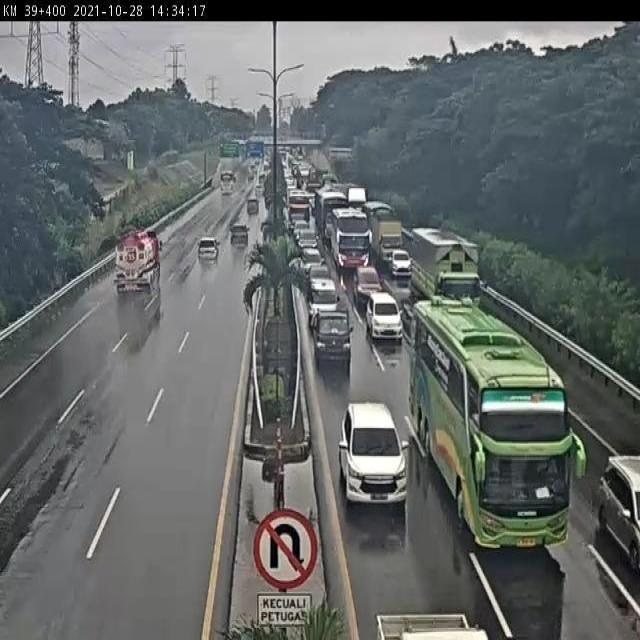ARABA: (336, 406, 409, 510), (587, 445, 640, 560), (111, 229, 168, 296), (312, 309, 355, 364), (364, 293, 404, 343), (302, 260, 335, 296), (191, 229, 221, 263), (228, 222, 251, 255), (341, 250, 367, 278), (388, 245, 408, 276), (297, 238, 318, 266), (296, 224, 318, 248), (242, 202, 261, 226), (302, 250, 323, 270), (292, 220, 309, 240)
OTOBUS: (412, 297, 589, 552), (330, 205, 370, 263), (314, 190, 347, 242), (285, 191, 313, 232), (215, 168, 238, 200)
TIR: (404, 222, 486, 314), (364, 202, 404, 266)
